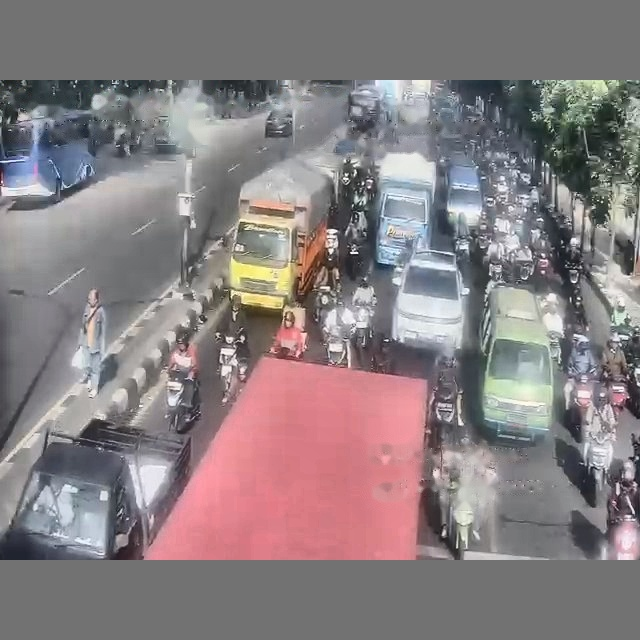Bis: (0, 115, 95, 202)
Mobil: (391, 249, 468, 349), (265, 108, 293, 137)
Motor: (166, 368, 199, 433), (585, 430, 613, 506), (219, 334, 247, 403), (569, 370, 595, 439), (602, 515, 639, 559), (326, 326, 351, 367), (313, 285, 336, 325), (607, 376, 628, 416), (354, 305, 372, 351), (345, 241, 363, 280), (548, 331, 561, 367)
Truk: (145, 356, 427, 559), (0, 418, 190, 559), (228, 158, 334, 309), (374, 152, 436, 264)
